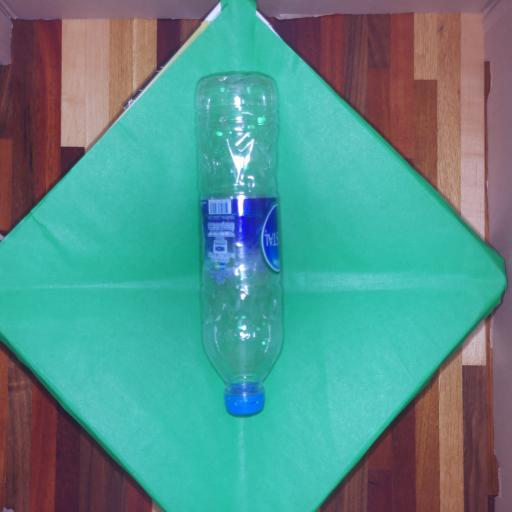bottle: (197, 76, 282, 414)
